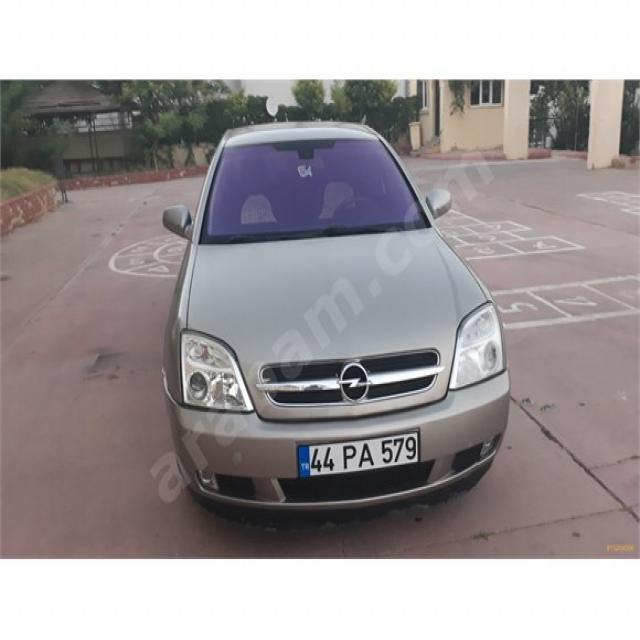plate: (296, 428, 422, 484)
